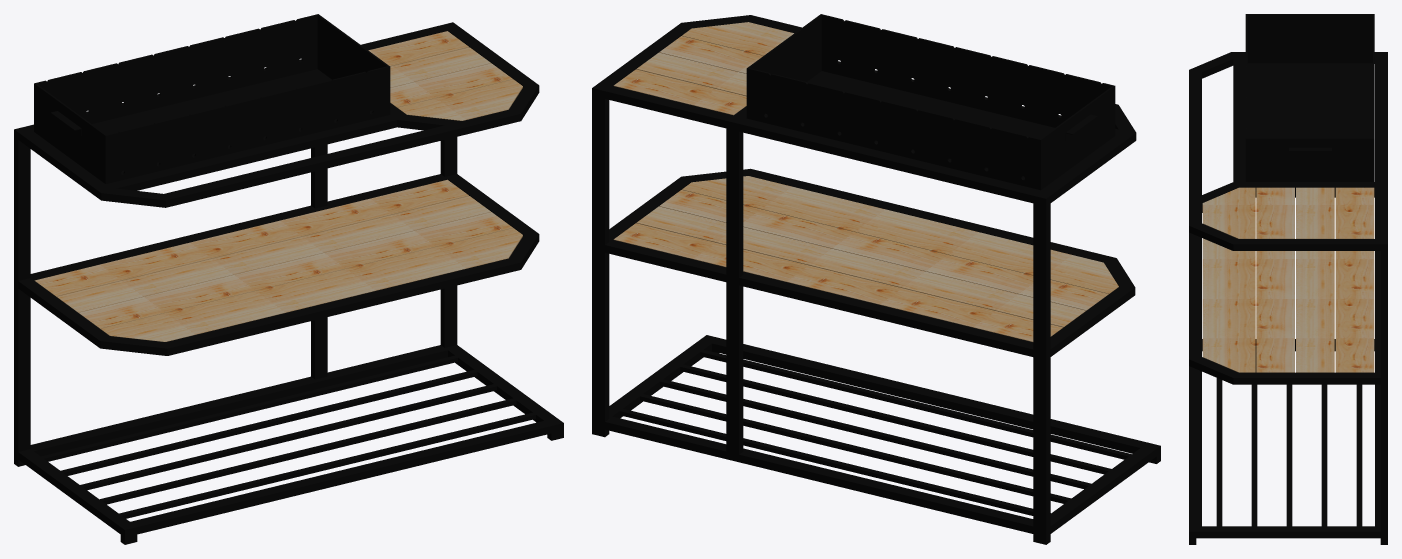
The picture shows the model from 3 angles, left to right: view 1: azimuth 30°, elevation 25°; view 2: azimuth 150°, elevation 25°; view 3: azimuth 270°, elevation 25°; orthographic projection. The views are drawn at different scales.
Visible parts, largest first — view 1: geometry-lumionModel, geometry-lumionModel.001; view 2: geometry-lumionModel, geometry-lumionModel.001; view 3: geometry-lumionModel, geometry-lumionModel.001.
Part boxes in pixels (bbox=[...]): geometry-lumionModel: bbox=[14, 14, 563, 544]; geometry-lumionModel.001: bbox=[34, 31, 522, 341]; geometry-lumionModel: bbox=[592, 14, 1160, 544]; geometry-lumionModel.001: bbox=[613, 22, 1118, 341]; geometry-lumionModel: bbox=[1189, 14, 1387, 544]; geometry-lumionModel.001: bbox=[1202, 187, 1374, 372].
Size of the model in its own units: 1.24 by 1.03 by 0.54.
Materials: 2 (1 with a texture image).
